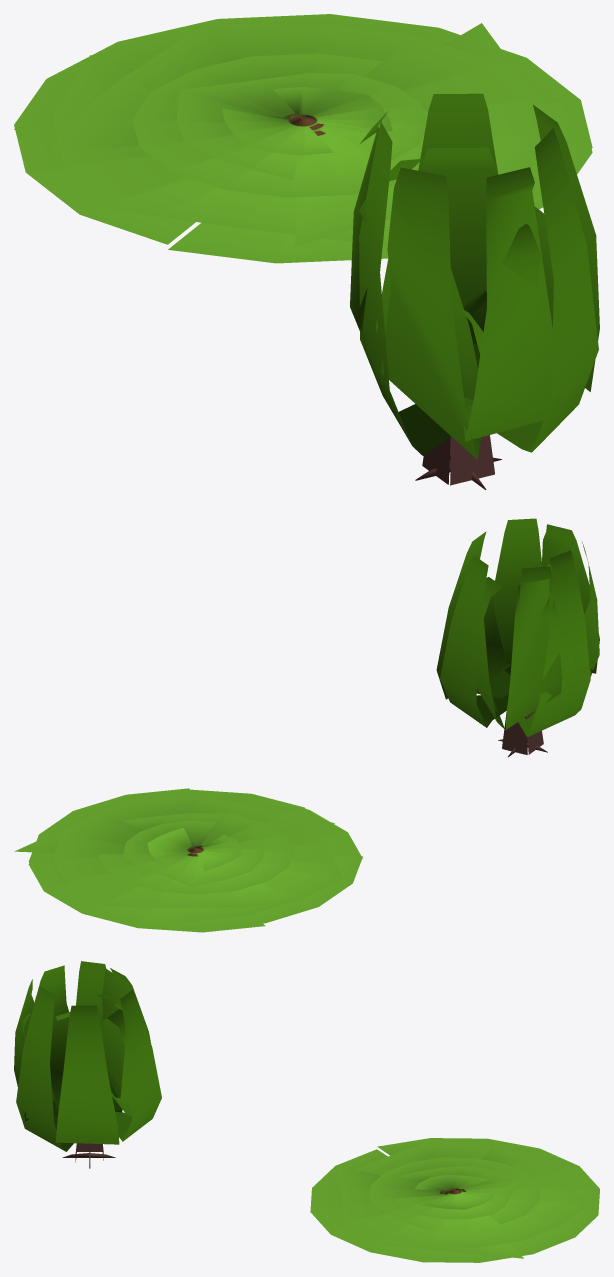
The model's file is SK_Trees.fbx.
3 renders of one model, top to bottom at view 1: azimuth 30°, elevation 25°; view 2: azimuth 150°, elevation 25°; view 3: azimuth 270°, elevation 25°, orthographic. The views are drawn at different scales.
Visible parts, largest first — view 1: Arbol_hojas_cortadas; view 2: Arbol_hojas_cortadas; view 3: Arbol_hojas_cortadas.
Part boxes in pixels (bbox=[...]): Arbol_hojas_cortadas: bbox=[14, 14, 599, 489]; Arbol_hojas_cortadas: bbox=[14, 518, 599, 932]; Arbol_hojas_cortadas: bbox=[14, 961, 599, 1262].
Size of the model in its own units: 2.62 by 1.61 by 4.79.
Materials: 2 (2 with a texture image).
